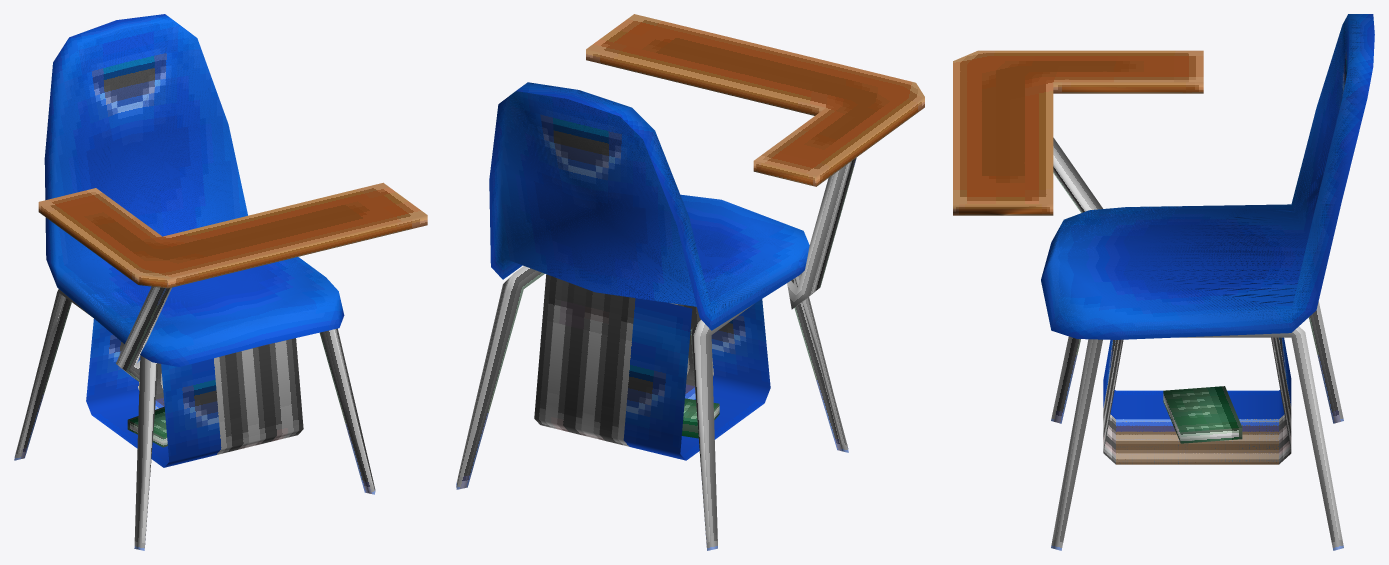
The model's file is rmk_scx_chairS_r.dae.
3 views of the same model, side by side, from view 1: azimuth 30°, elevation 25°; view 2: azimuth 150°, elevation 25°; view 3: azimuth 270°, elevation 25° (orthographic). The views are drawn at different scales.
Visible parts, largest first — view 1: rmk_scx_chairS_r; view 2: rmk_scx_chairS_r; view 3: rmk_scx_chairS_r.
Boxes of the visible parts, x1,y1,x2,y2 form: rmk_scx_chairS_r: (14,14,427,550); rmk_scx_chairS_r: (456,14,924,550); rmk_scx_chairS_r: (953,14,1374,550).
Bounding box in the file's own units: 23.2 × 31.68 × 26.93.
Materials: 1 (1 with a texture image).
